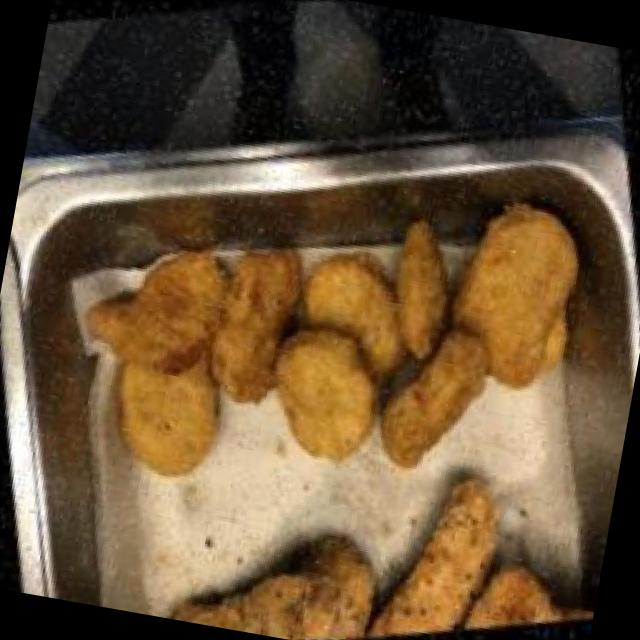chicken_nuggets: (36, 114, 640, 572)
